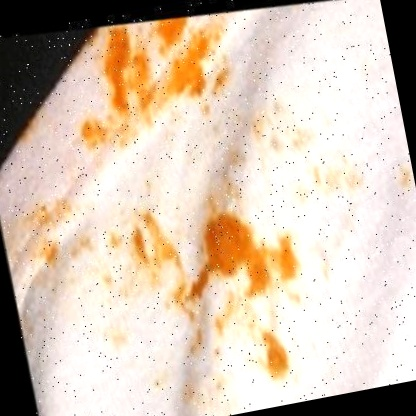kimchi: (15, 144, 357, 416), (72, 73, 227, 158), (95, 7, 215, 94), (195, 86, 325, 165), (318, 141, 416, 216), (207, 14, 249, 81)
